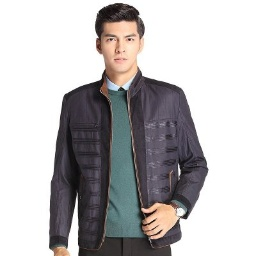face: (94, 2, 143, 74)
